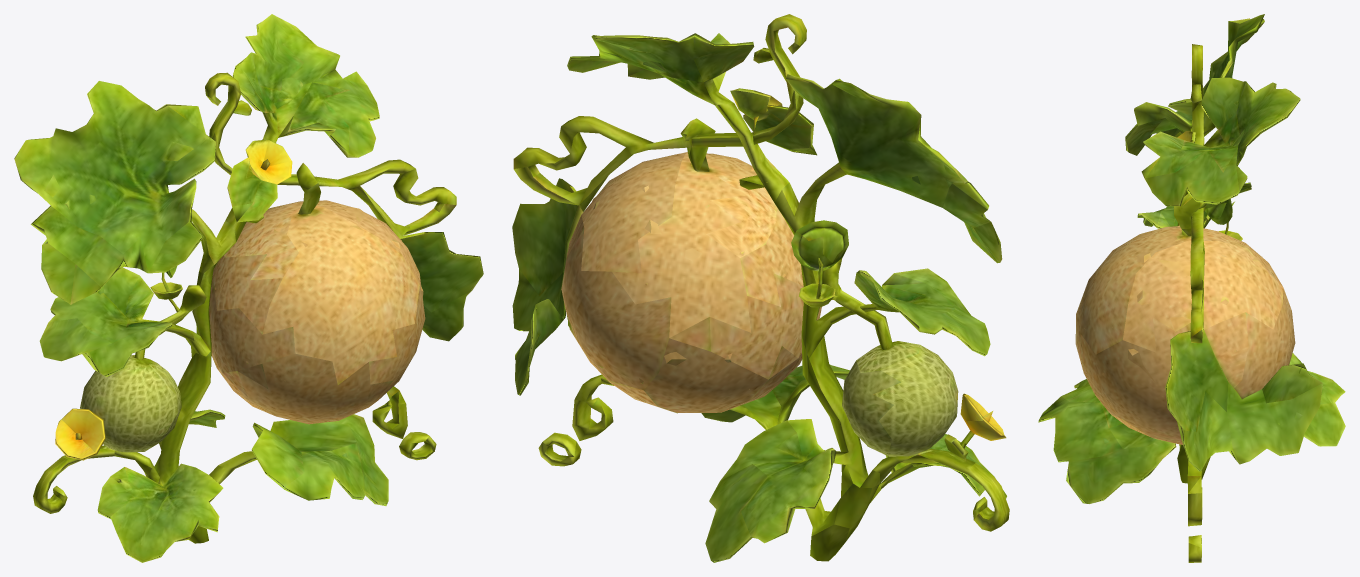
Rendered from melon.glb.
The picture shows the model from 3 angles, left to right: view 1: azimuth 30°, elevation 25°; view 2: azimuth 150°, elevation 25°; view 3: azimuth 270°, elevation 25°; orthographic projection. The views are drawn at different scales.
Bounding box in the file's own units: 0.998 × 1 × 0.625.
Materials: 1 (1 with a texture image).
